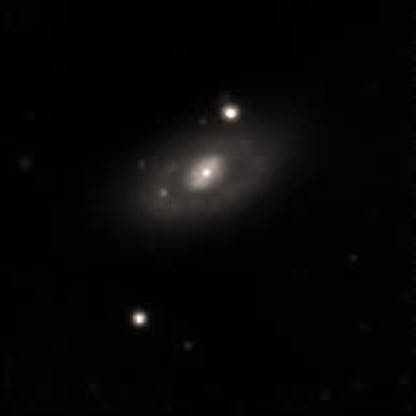NGC 4102: (117, 96, 285, 233)
